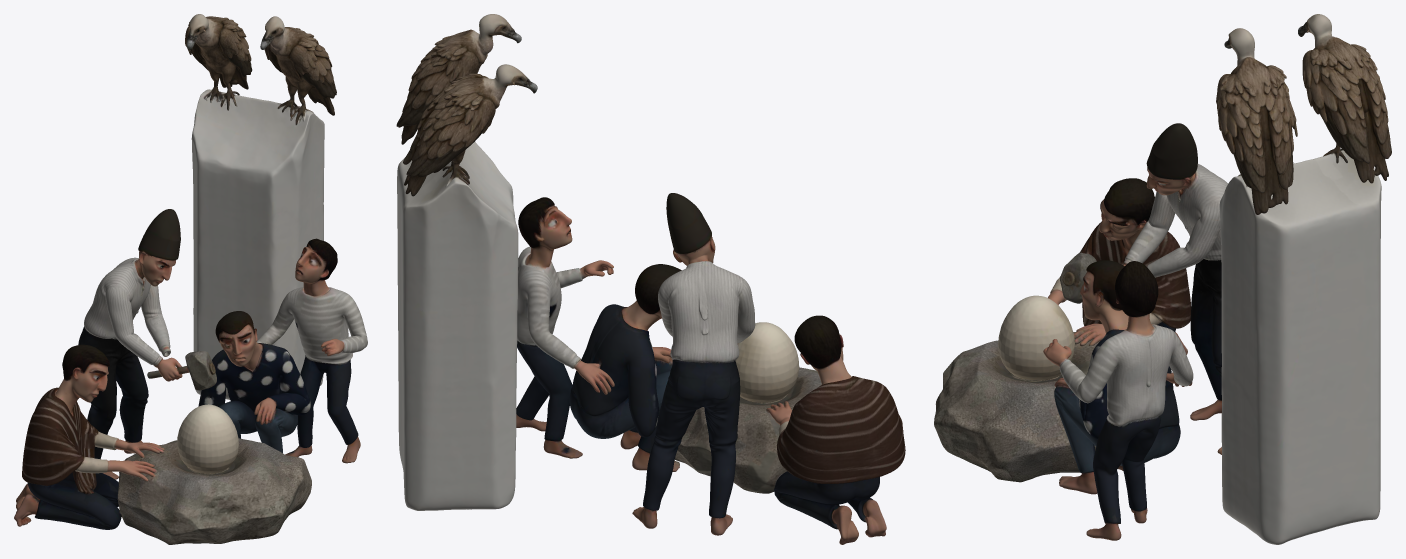
The model's file is 68-los-huevos-que-ninguno-optimized.glb.
3 renders of one model, left to right at view 1: azimuth 30°, elevation 25°; view 2: azimuth 150°, elevation 25°; view 3: azimuth 270°, elevation 25°, orthographic. The views are drawn at different scales.
Visible parts, largest first — view 1: tripo_node_67cf4edd-7b68-4d8d-8ee8-fadac936845a; view 2: tripo_node_67cf4edd-7b68-4d8d-8ee8-fadac936845a; view 3: tripo_node_67cf4edd-7b68-4d8d-8ee8-fadac936845a.
Part boxes in pixels (<box>): tripo_node_67cf4edd-7b68-4d8d-8ee8-fadac936845a: <box>14,14,367,544</box>; tripo_node_67cf4edd-7b68-4d8d-8ee8-fadac936845a: <box>396,14,905,544</box>; tripo_node_67cf4edd-7b68-4d8d-8ee8-fadac936845a: <box>934,14,1391,544</box>.
Bounding box in the file's own units: 0.9507 × 1 × 0.8284.
Materials: 1 (1 with a texture image).
